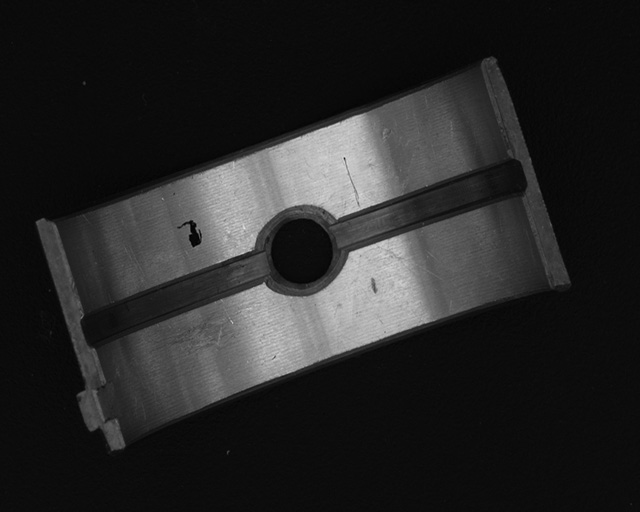blot: (176, 219, 203, 249)
bruise: (369, 276, 379, 295)
gap: (82, 252, 269, 346), (333, 162, 524, 251)
hole: (259, 207, 344, 291)
nick: (343, 156, 362, 207)
scratch: (139, 297, 254, 352)
